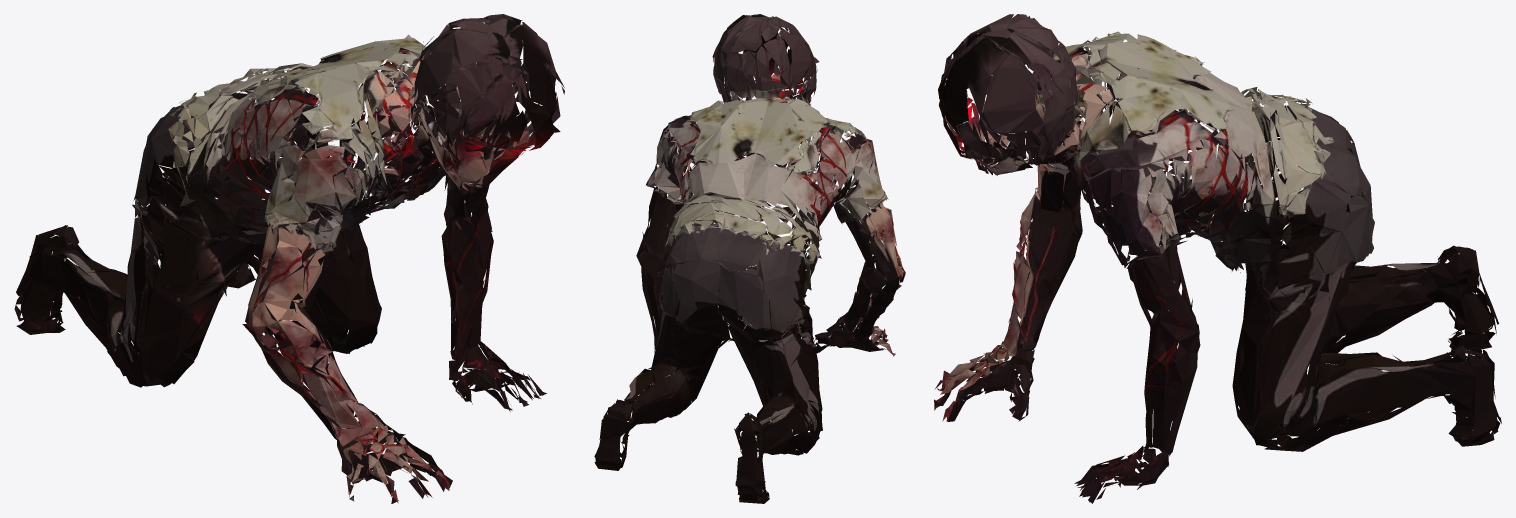
Rendered from crawler.glb.
3 views of the same model, side by side, from view 1: azimuth 30°, elevation 25°; view 2: azimuth 150°, elevation 25°; view 3: azimuth 270°, elevation 25° (orthographic). The views are drawn at different scales.
Visible parts, largest first — view 1: world; view 2: world; view 3: world.
Part boxes in pixels (x1,y1,x2,y2): world: (14, 14, 564, 503); world: (594, 14, 905, 503); world: (934, 14, 1501, 503).
Bounding box in the file's own units: 1.36 × 1.67 × 1.98.
1 material, 1 textured.
